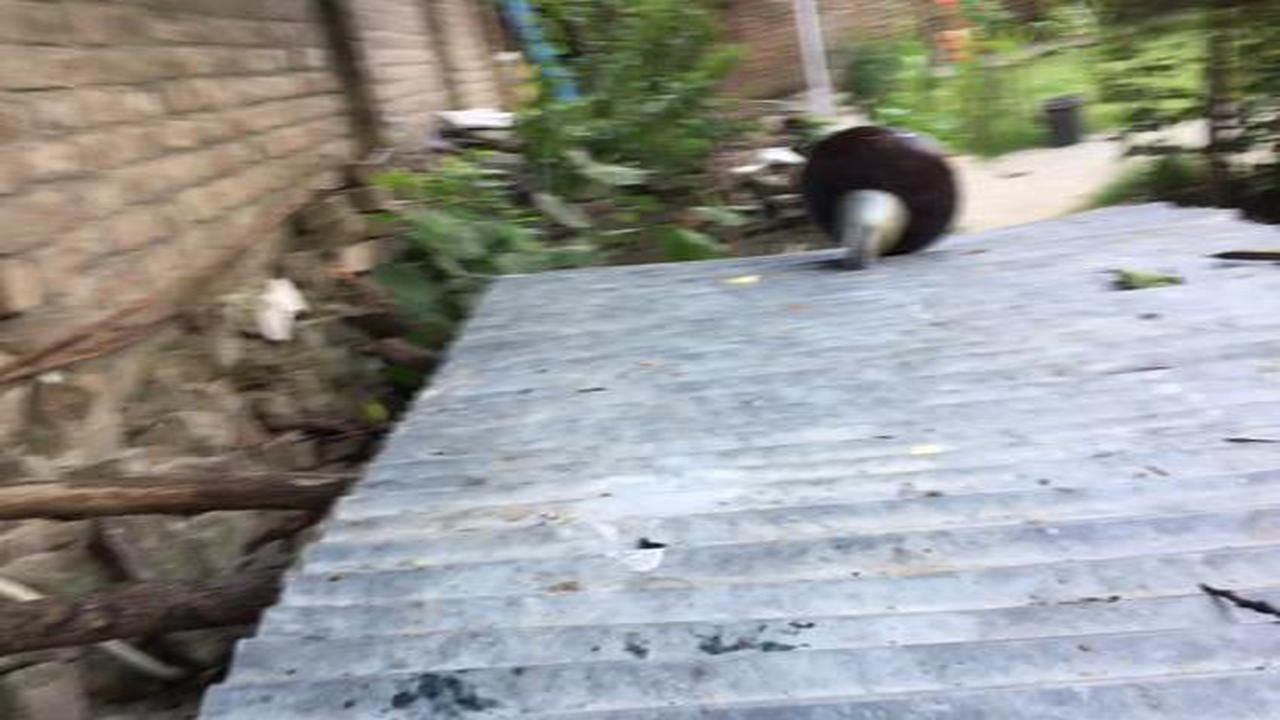insulator_disc: (799, 123, 964, 274)
